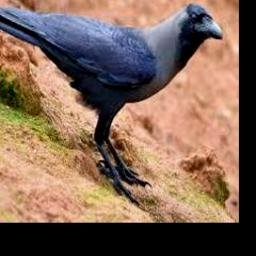Crow: (0, 2, 222, 205)
